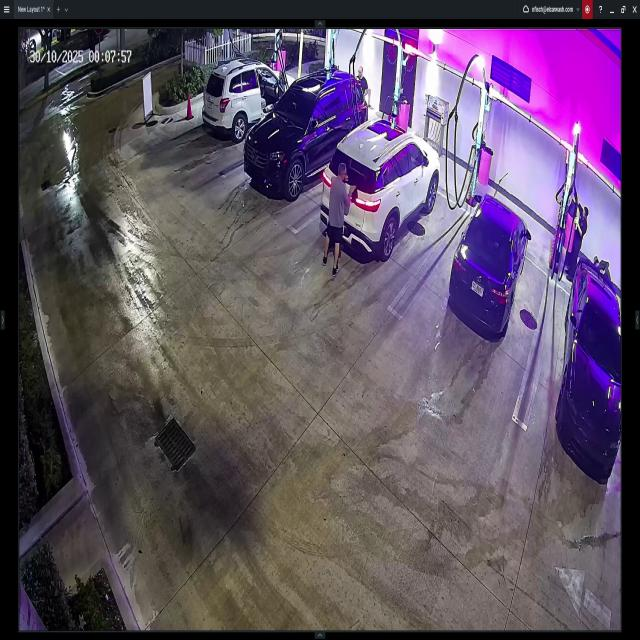Car: (323, 116, 440, 258), (246, 68, 367, 194), (557, 258, 620, 482), (448, 196, 531, 335), (201, 57, 298, 139)
